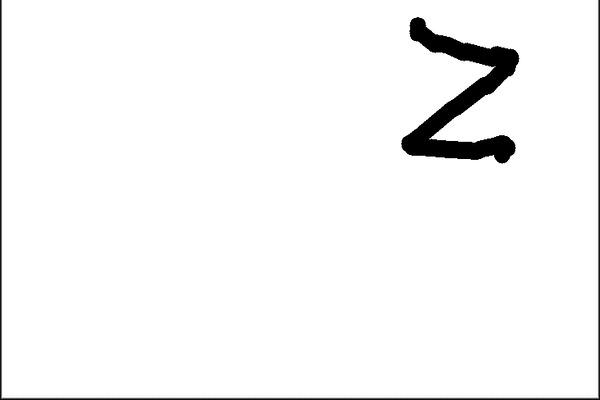Z: (390, 14, 524, 177)
